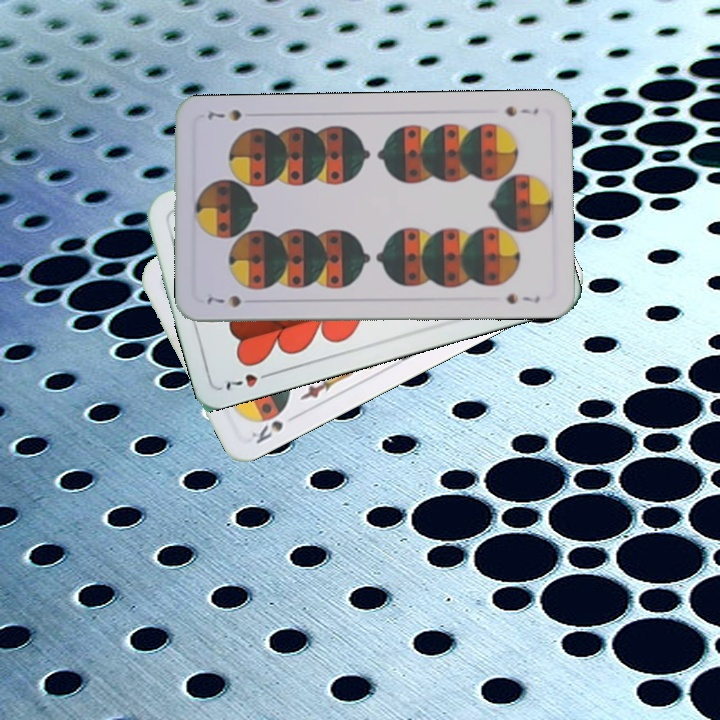H7: (221, 368, 277, 393)
S7: (203, 291, 244, 310), (502, 101, 541, 119)
SK: (247, 410, 301, 447)
